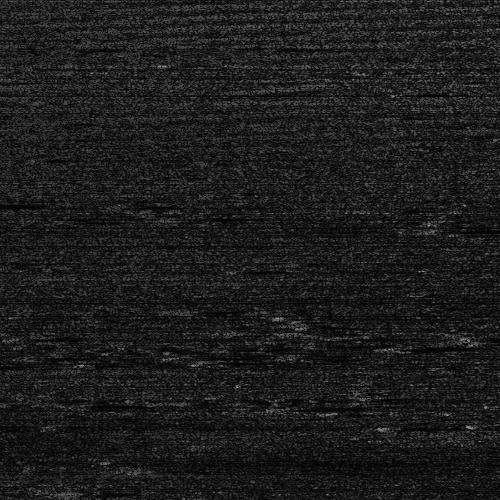rock: (382, 342, 423, 349)
shadow: (403, 342, 481, 349)
